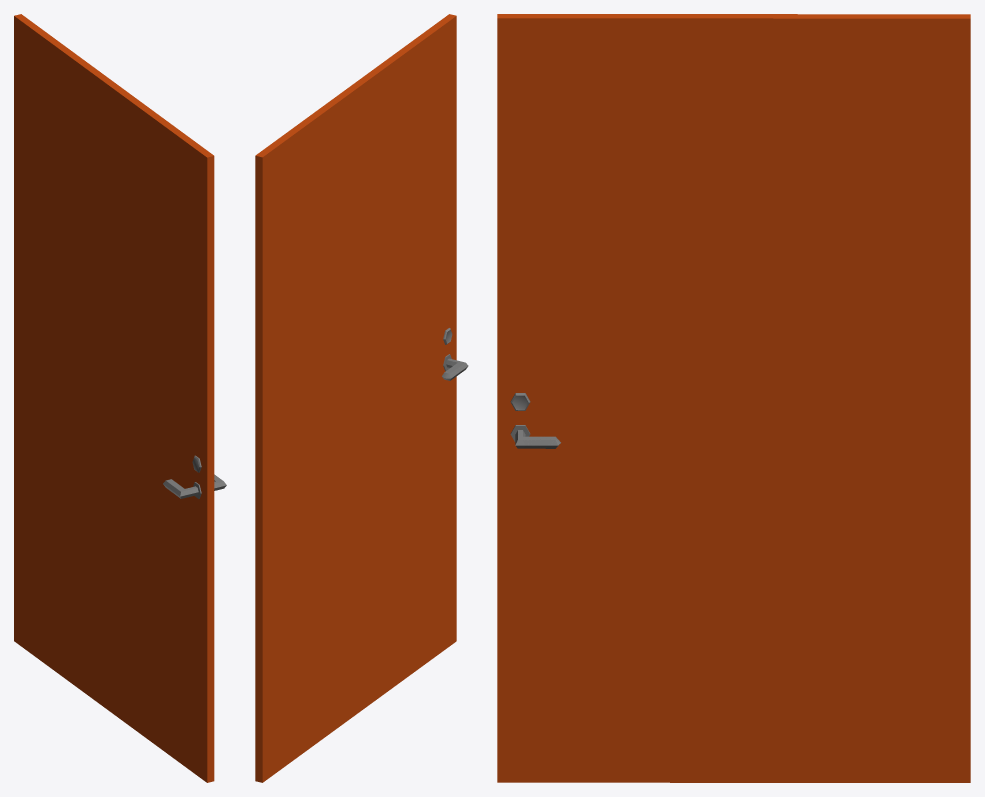
Rendered from SW_corridor__R_lobby_booth_door_2.FBX.
3 renders of one model, left to right at view 1: azimuth 30°, elevation 25°; view 2: azimuth 150°, elevation 25°; view 3: azimuth 270°, elevation 25°, orthographic. The views are drawn at different scales.
Parts seen in each view (by area): view 1: SW_corridor__R_lobby_booth_door_2; view 2: SW_corridor__R_lobby_booth_door_2; view 3: SW_corridor__R_lobby_booth_door_2.
Boxes of the visible parts, left/top/right/bottom form: SW_corridor__R_lobby_booth_door_2: left=14, top=14, right=226, bottom=782; SW_corridor__R_lobby_booth_door_2: left=255, top=14, right=468, bottom=782; SW_corridor__R_lobby_booth_door_2: left=497, top=14, right=970, bottom=782.
Bounding box in the file's own units: 16.05 × 115 × 205.
